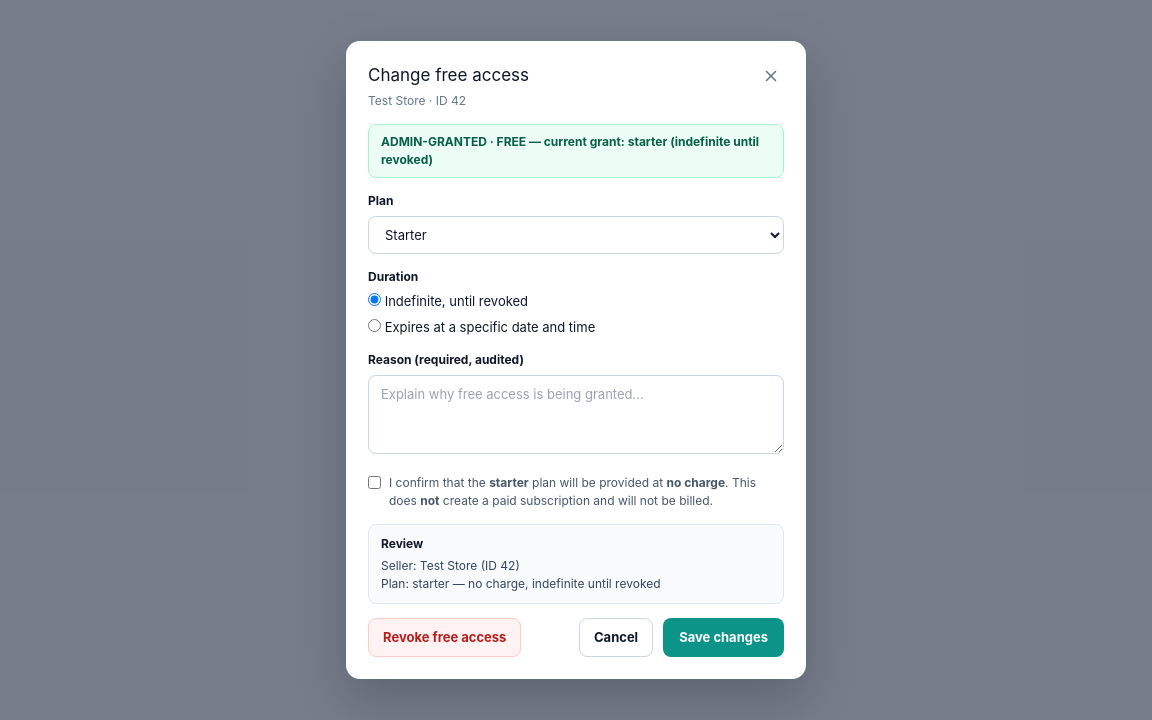
Test case: FreeAccessModal submissions › blocks revocation without a reason
Click the button "Revoke free access" at {"x": 445, "y": 638}, box [368, 618, 521, 657]
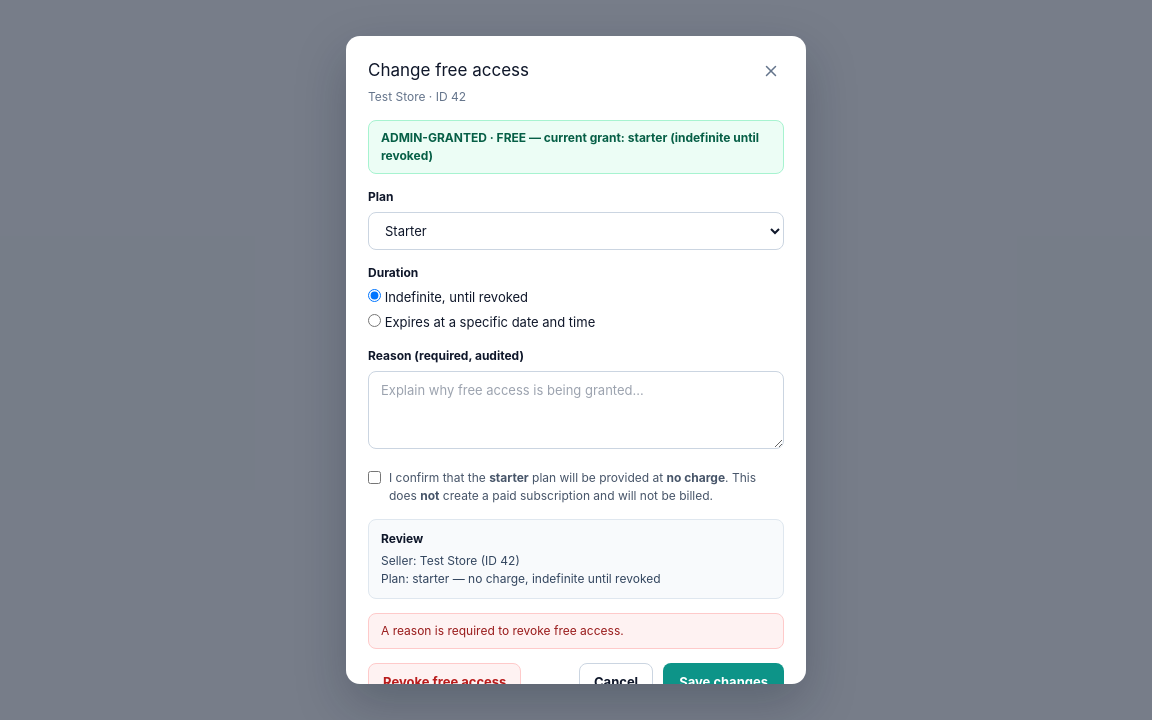
Check: the message shows "reason is required", box [381, 623, 624, 638]
